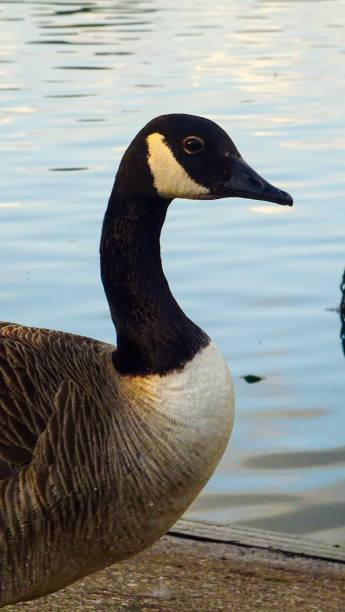Canadian-Goose: (4, 108, 296, 599)
